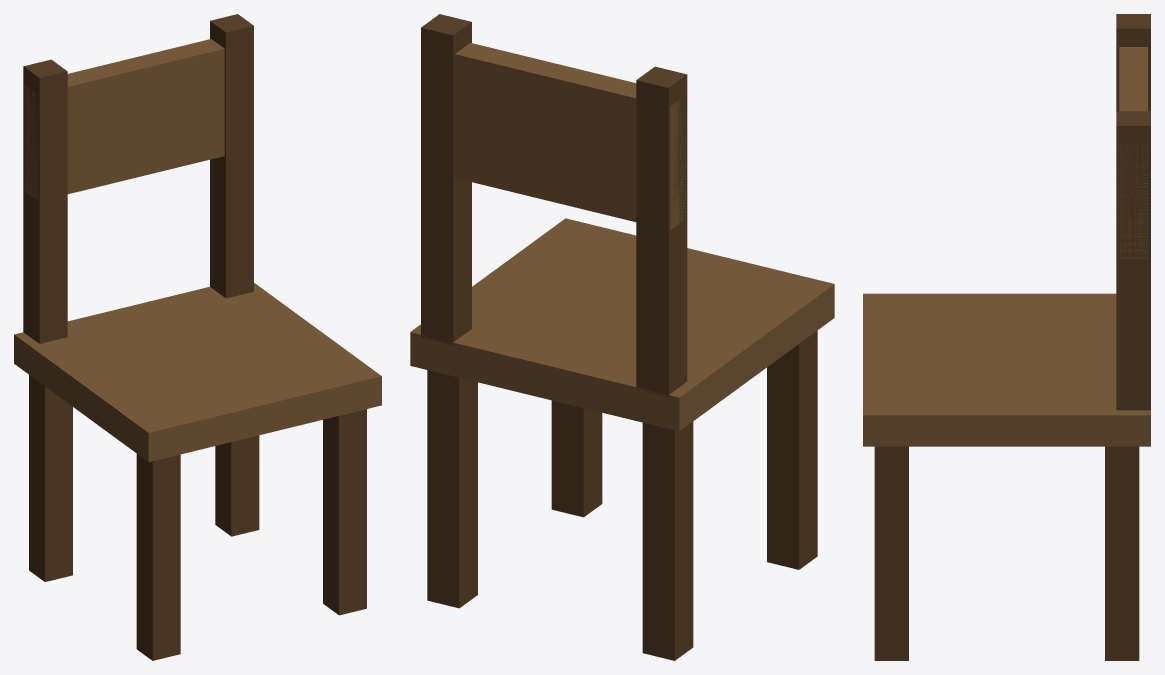
The model's file is chair.glb.
3 renders of one model, left to right at view 1: azimuth 30°, elevation 25°; view 2: azimuth 150°, elevation 25°; view 3: azimuth 270°, elevation 25°, orthographic. The views are drawn at different scales.
Parts seen in each view (by area): view 1: chair_seat, chair_leg (×4), chair_post (×2), chair_back; view 2: chair_seat, chair_leg (×4), chair_post (×2), chair_back; view 3: chair_seat, chair_leg (×2), chair_post (×2), chair_back.
Part boxes in pixels (x1,y1,x2,y2): chair_seat: (14,283,381,461); chair_leg (×4): (29,375,366,660); chair_post (×2): (23,14,253,343); chair_back: (24,39,224,200); chair_seat: (410,218,834,431); chair_leg (×4): (427,330,817,660); chair_post (×2): (421,14,687,397); chair_back: (454,43,685,229); chair_seat: (863,293,1150,446); chair_leg (×2): (874,446,1139,660); chair_post (×2): (1116,14,1150,410); chair_back: (1119,47,1147,258).
Size of the model in its own units: 0.5 by 1.02 by 0.5.
